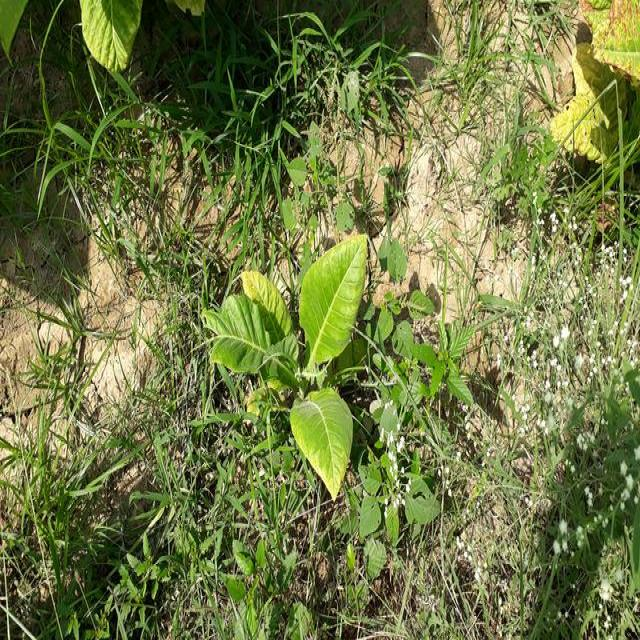crop: (206, 226, 373, 496)
